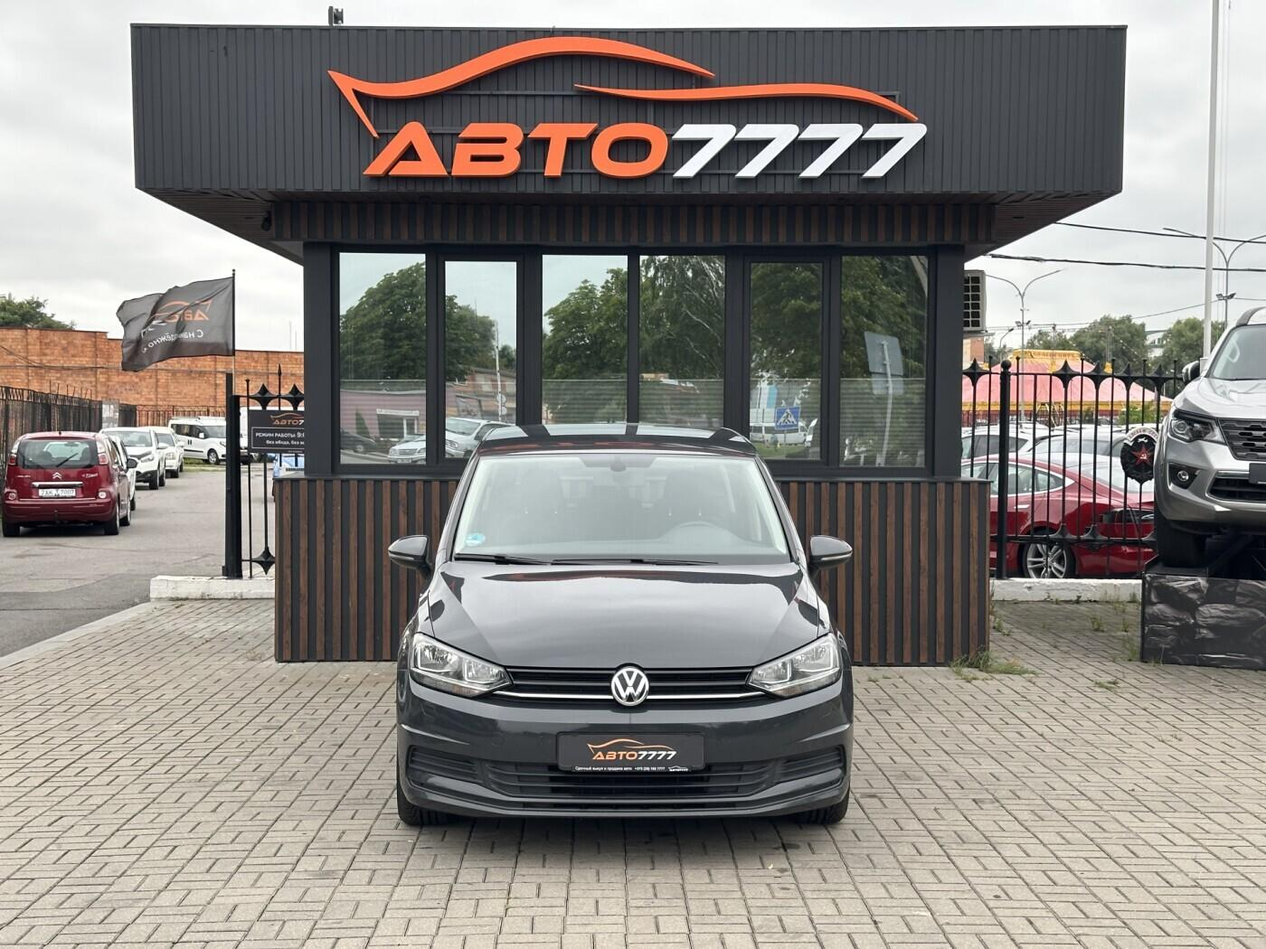Touran_2015: (390, 420, 860, 833)
